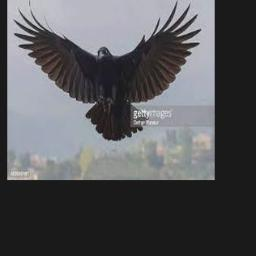Crow: (13, 0, 202, 140)
